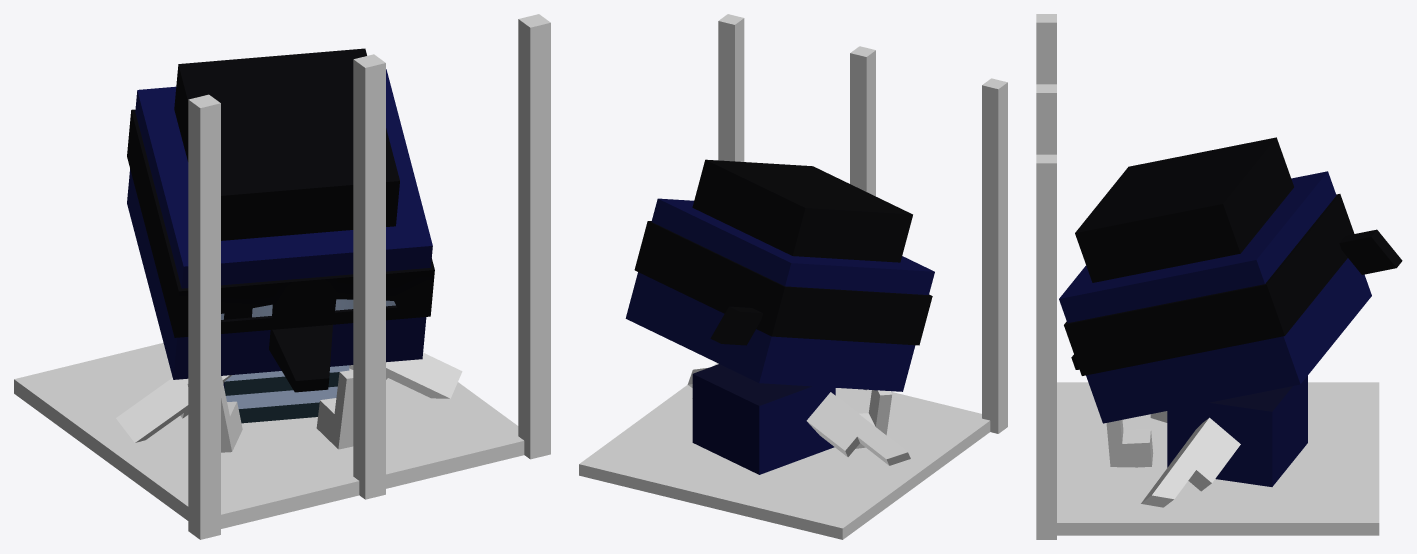
File: magpie_lose.dae
The picture shows the model from 3 angles, left to right: view 1: azimuth 30°, elevation 25°; view 2: azimuth 150°, elevation 25°; view 3: azimuth 270°, elevation 25°; orthographic projection. The views are drawn at different scales.
Parts seen in each view (by area): view 1: magpieIdle_head_MSH, floorTile_skeleton_MSH, pCube1, pCube2, pCube5, magpieIdle_body_MSH, magpieIdle_L_arm_MSH1, magpieIdle_L_arm_MSH, magpieIdle_L_leg_MSH, magpieIdle_R_leg_MSH; view 2: magpieIdle_head_MSH, floorTile_skeleton_MSH, magpieIdle_body_MSH, pCube1, pCube2, pCube5, magpieIdle_L_arm_MSH1, magpieIdle_R_leg_MSH; view 3: magpieIdle_head_MSH, floorTile_skeleton_MSH, magpieIdle_body_MSH, pCube2, magpieIdle_L_arm_MSH, magpieIdle_L_leg_MSH, pCube1, pCube5.
Part boxes in pixels (<box>): magpieIdle_head_MSH: <box>127,48,434,392</box>; floorTile_skeleton_MSH: <box>14,343,524,528</box>; pCube1: <box>188,94,220,539</box>; pCube2: <box>518,14,550,459</box>; pCube5: <box>353,54,385,499</box>; magpieIdle_body_MSH: <box>223,365,349,423</box>; magpieIdle_L_arm_MSH1: <box>116,375,232,442</box>; magpieIdle_L_arm_MSH: <box>349,352,462,398</box>; magpieIdle_L_leg_MSH: <box>316,370,353,449</box>; magpieIdle_R_leg_MSH: <box>187,376,242,452</box>; magpieIdle_head_MSH: <box>625,159,934,391</box>; floorTile_skeleton_MSH: <box>579,363,990,539</box>; magpieIdle_body_MSH: <box>692,364,835,474</box>; pCube1: <box>982,78,1007,433</box>; pCube2: <box>718,14,744,161</box>; pCube5: <box>850,46,875,390</box>; magpieIdle_L_arm_MSH1: <box>806,392,910,465</box>; magpieIdle_R_leg_MSH: <box>855,390,892,448</box>; magpieIdle_head_MSH: <box>1059,137,1402,423</box>; floorTile_skeleton_MSH: <box>1057,382,1379,535</box>; magpieIdle_body_MSH: <box>1167,376,1307,486</box>; pCube2: <box>1036,154,1056,539</box>; magpieIdle_L_arm_MSH: <box>1141,417,1240,507</box>; magpieIdle_L_leg_MSH: <box>1106,420,1153,467</box>; pCube1: <box>1036,14,1056,84</box>; pCube5: <box>1036,84,1056,154</box>.
Bounding box in the file's own units: 1.06 × 1.25 × 1.1.
